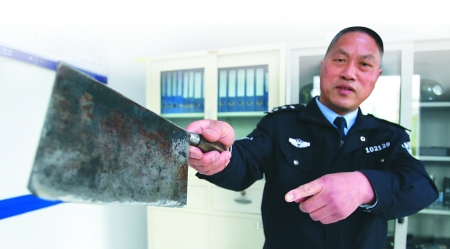knief: (37, 57, 242, 218)
